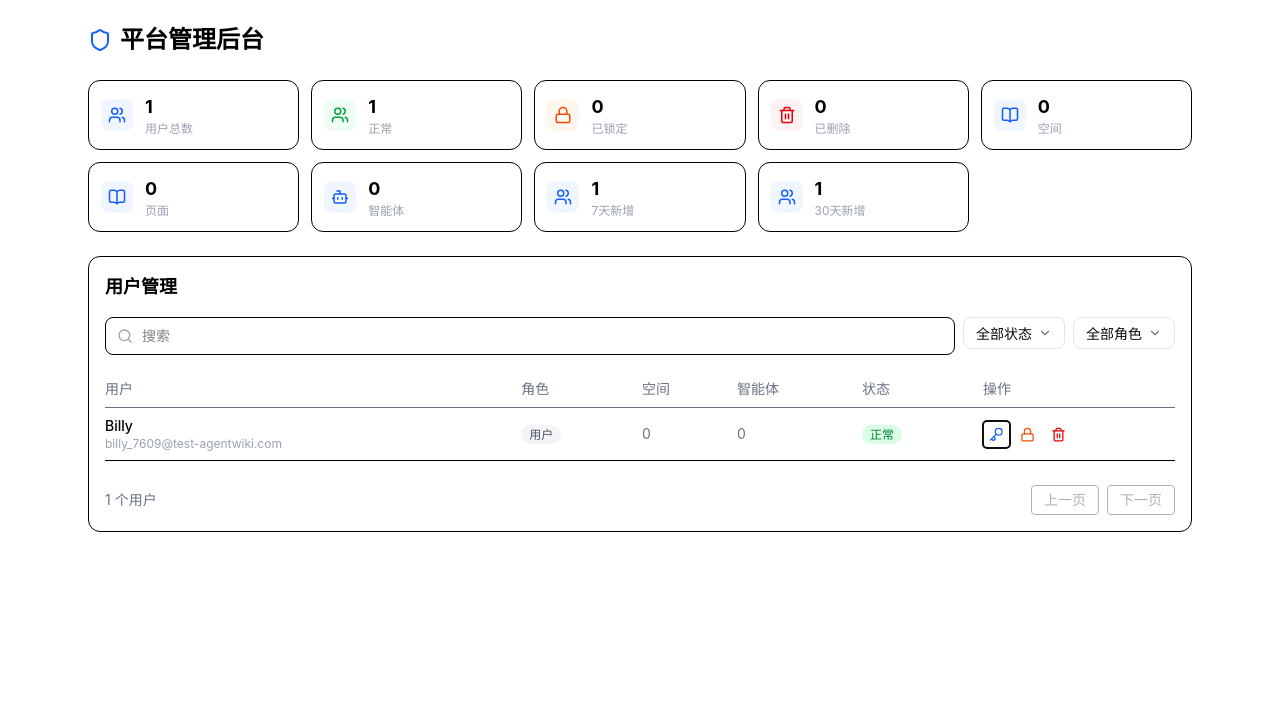
Test: AdminPage password reset › closes the action dialog with Escape and restores focus to its opener
Click the button titled "重置密码": (996, 434) left=983, top=420, right=1010, bottom=448
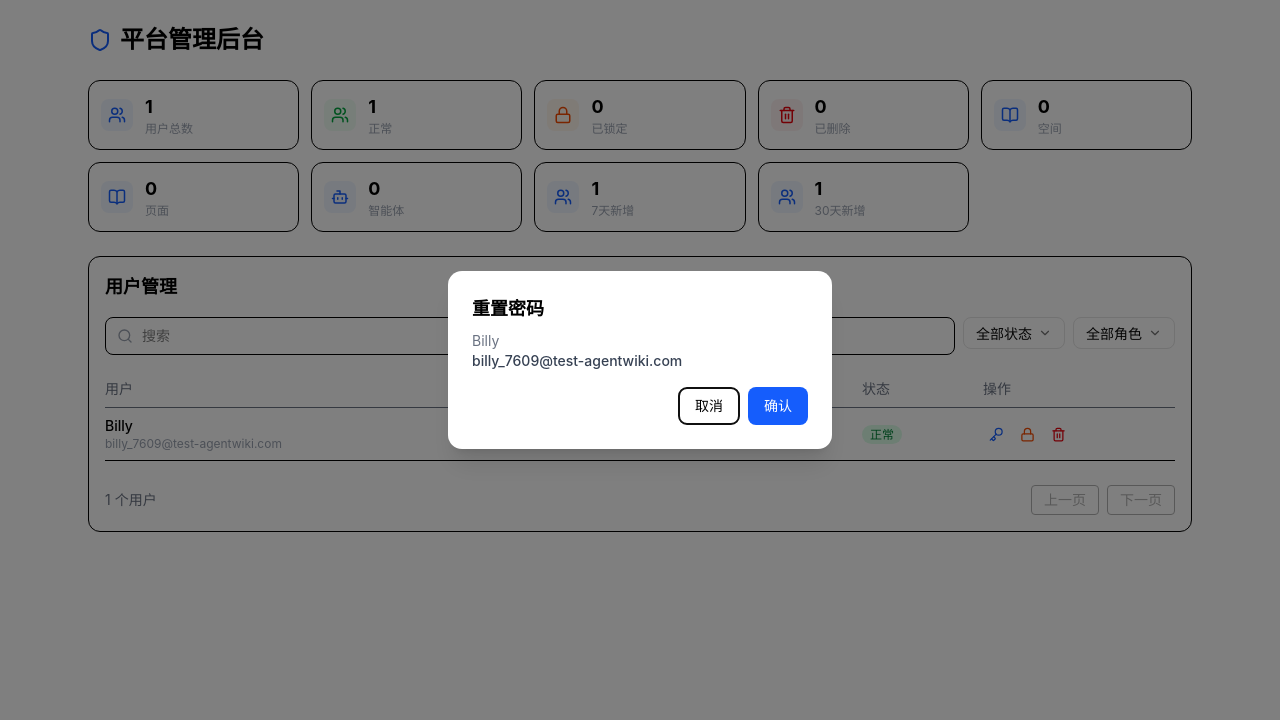
Press Escape in the dialog "重置密码", box left=448, top=271, right=832, bottom=449
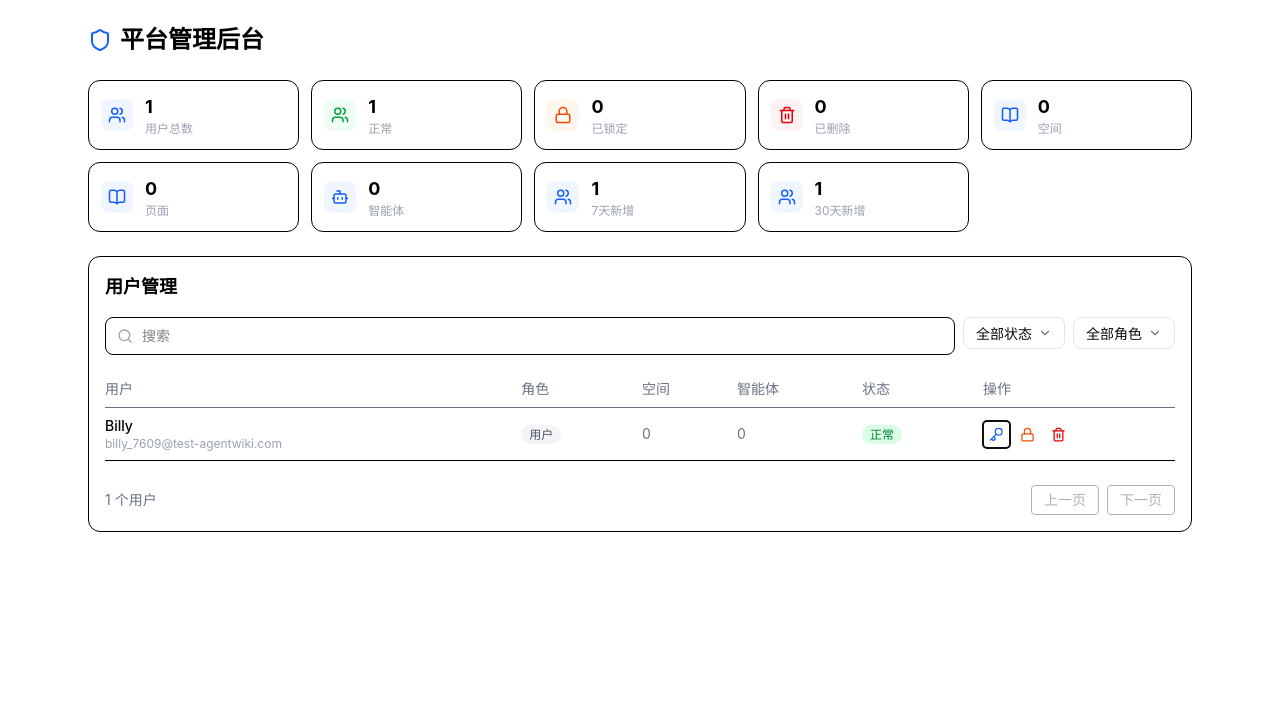
Check: the dialog is gone
